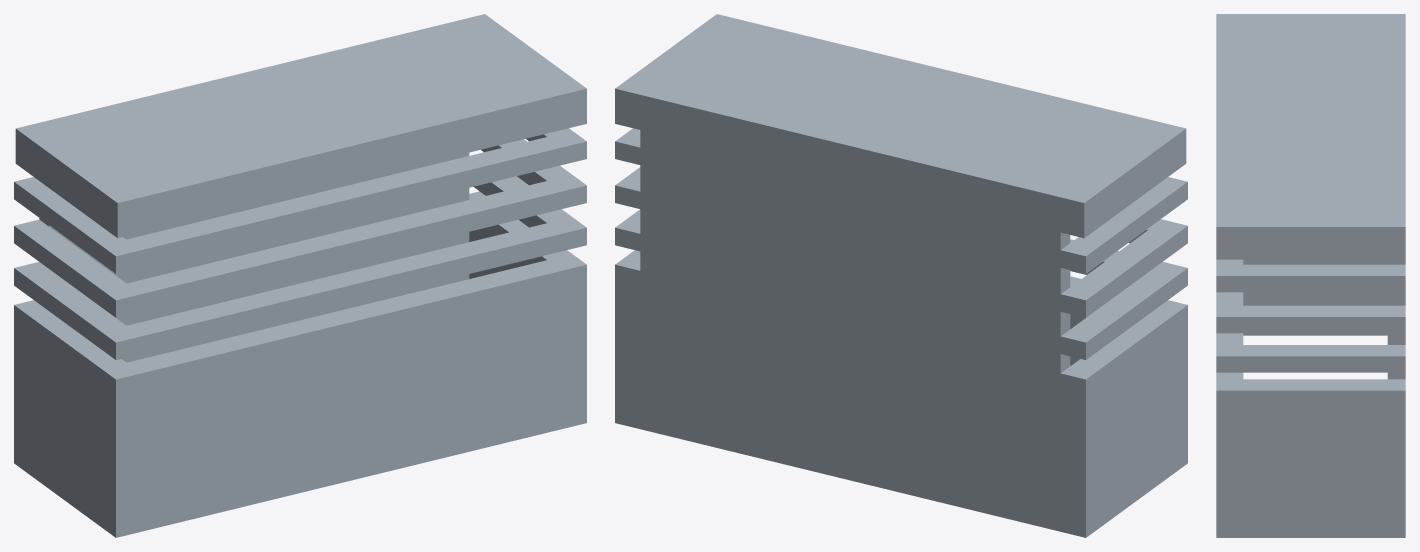
File: memoriafondo (1).glb
3 views of the same model, side by side, from view 1: azimuth 30°, elevation 25°; view 2: azimuth 150°, elevation 25°; view 3: azimuth 270°, elevation 25° (orthographic). The views are drawn at different scales.
Visible parts, largest first — view 1: Cuerpo23, Cuerpo25, Cuerpo24, Cuerpo22, Cuerpo10, Cuerpo17; view 2: Cuerpo17, Cuerpo25, Cuerpo23, Cuerpo24, Cuerpo22, Cuerpo10; view 3: Cuerpo25, Cuerpo23, Cuerpo22, Cuerpo24, Cuerpo10, Cuerpo17.
Part boxes in pixels (left/top/right/bottom): Cuerpo23: left=14, top=191, right=586, bottom=537; Cuerpo25: left=15, top=14, right=586, bottom=238; Cuerpo24: left=14, top=176, right=586, bottom=359; Cuerpo22: left=14, top=139, right=586, bottom=317; Cuerpo10: left=14, top=128, right=586, bottom=273; Cuerpo17: left=39, top=152, right=469, bottom=362; Cuerpo17: left=640, top=130, right=1070, bottom=531; Cuerpo25: left=615, top=14, right=1186, bottom=238; Cuerpo23: left=615, top=250, right=1187, bottom=537; Cuerpo24: left=615, top=209, right=1187, bottom=359; Cuerpo22: left=615, top=167, right=1187, bottom=317; Cuerpo10: left=615, top=128, right=1187, bottom=273; Cuerpo25: left=1216, top=14, right=1405, bottom=259; Cuerpo23: left=1216, top=259, right=1405, bottom=537; Cuerpo22: left=1216, top=292, right=1405, bottom=333; Cuerpo24: left=1216, top=333, right=1405, bottom=372; Cuerpo10: left=1216, top=259, right=1405, bottom=292; Cuerpo17: left=1387, top=259, right=1405, bottom=379.
Bounding box in the file's own units: 1.4 × 0.95 × 0.525.
